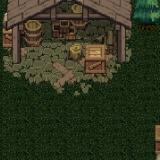Hide: (50, 51, 111, 115)
Obstacle: (0, 0, 133, 97), (133, 0, 160, 160)
